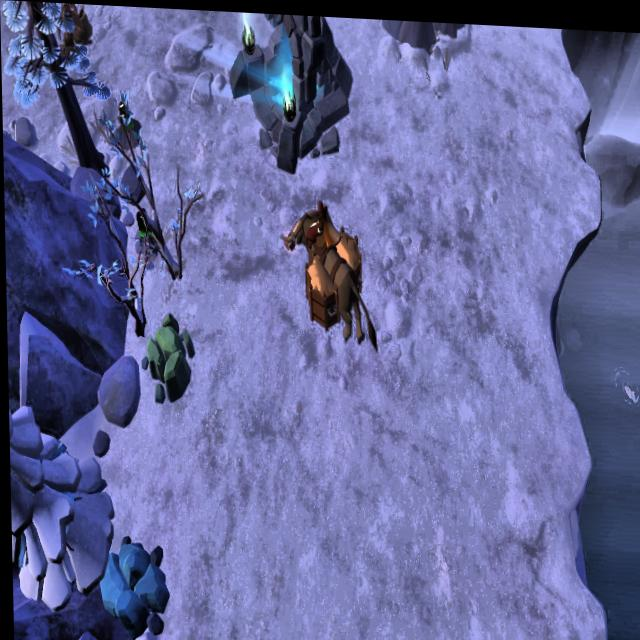ore_t3: (133, 203, 152, 241), (114, 94, 131, 131)
rock_t3: (139, 306, 196, 401)
rock_t4: (94, 530, 170, 638)
